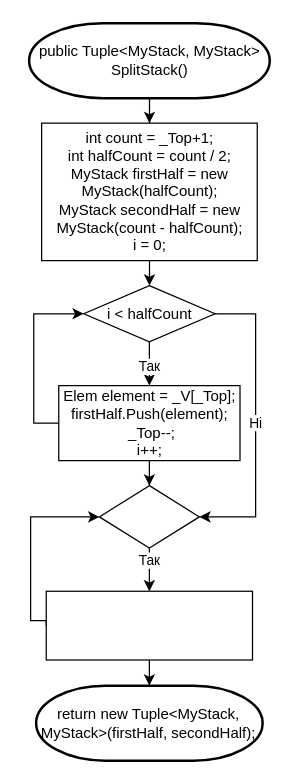
This 293x783 diagram has some shape labels left out. The shapes that lost their labels are listed below. From the top down, each one's centre as x and y in pixels, then its label:
At [148,516]: "_Top!=-1".
At [148,625]: "Elem element = _V[_Top]; secondHalf.Push(element); _Top--;".
